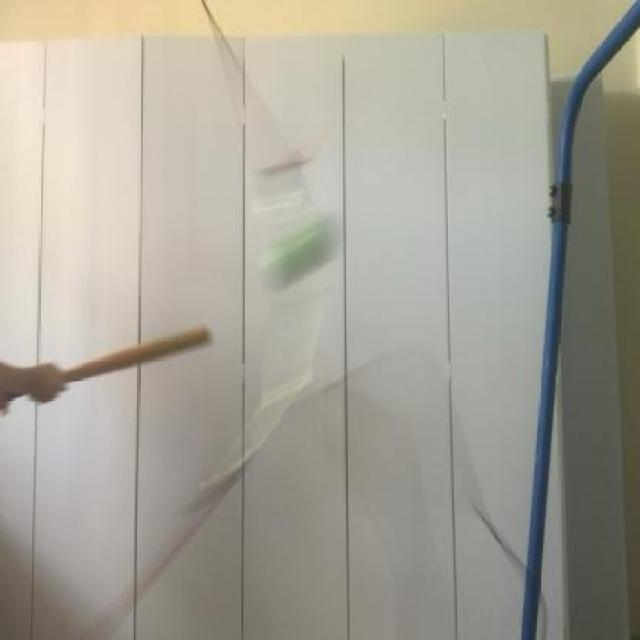baseball: (259, 203, 353, 305)
